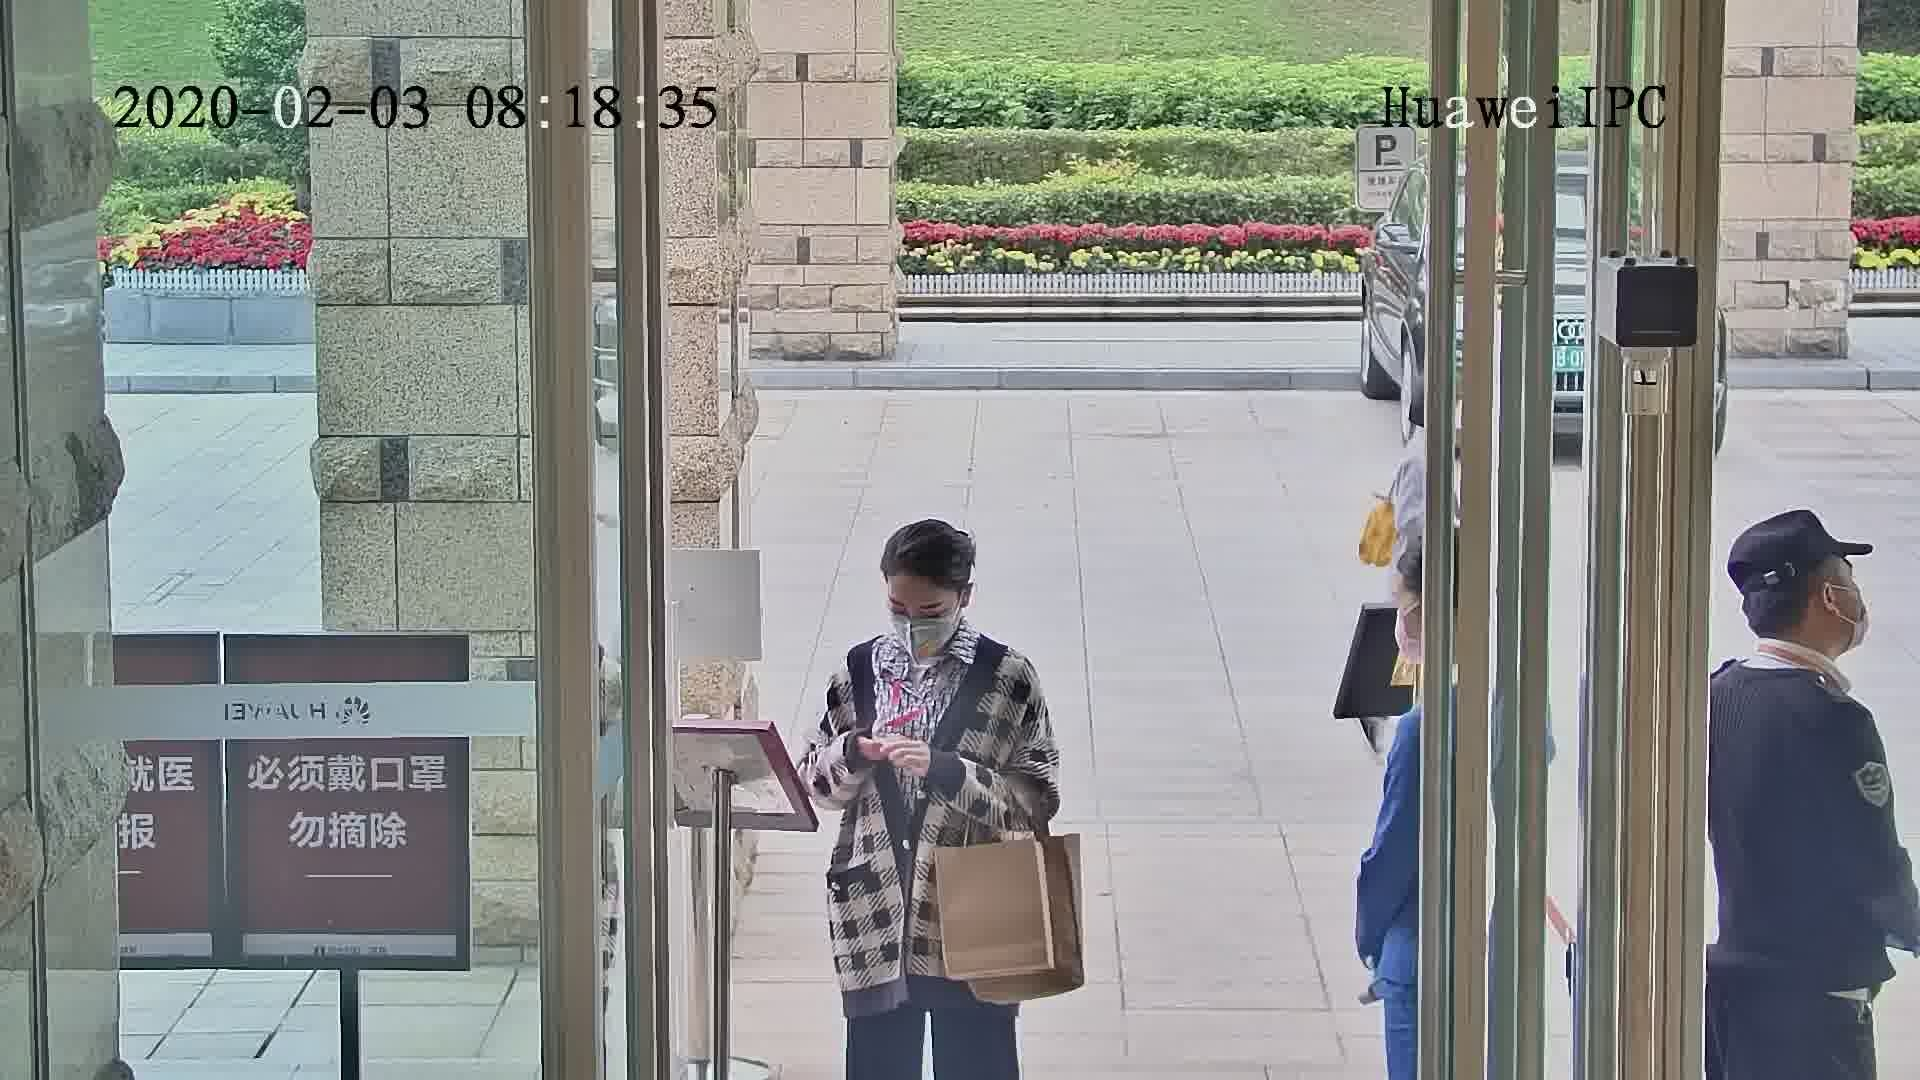face: (883, 586, 965, 660), (1834, 558, 1878, 658)
mask: (889, 609, 965, 655)
person: (1713, 500, 1890, 787), (832, 514, 1040, 702)
